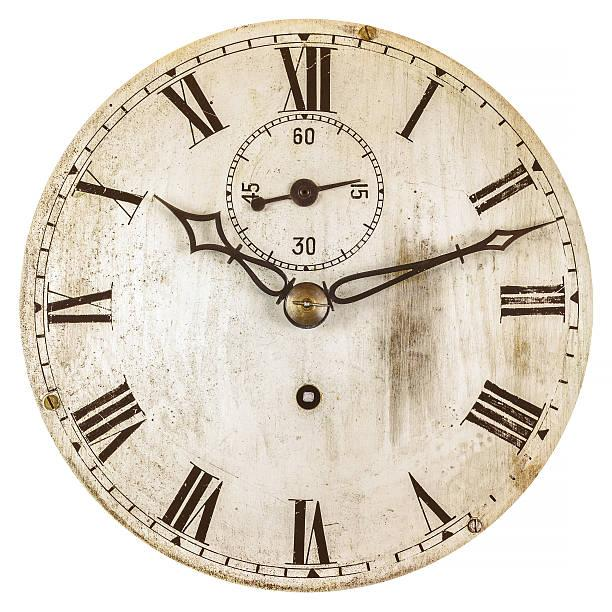clock: (21, 20, 588, 592)
